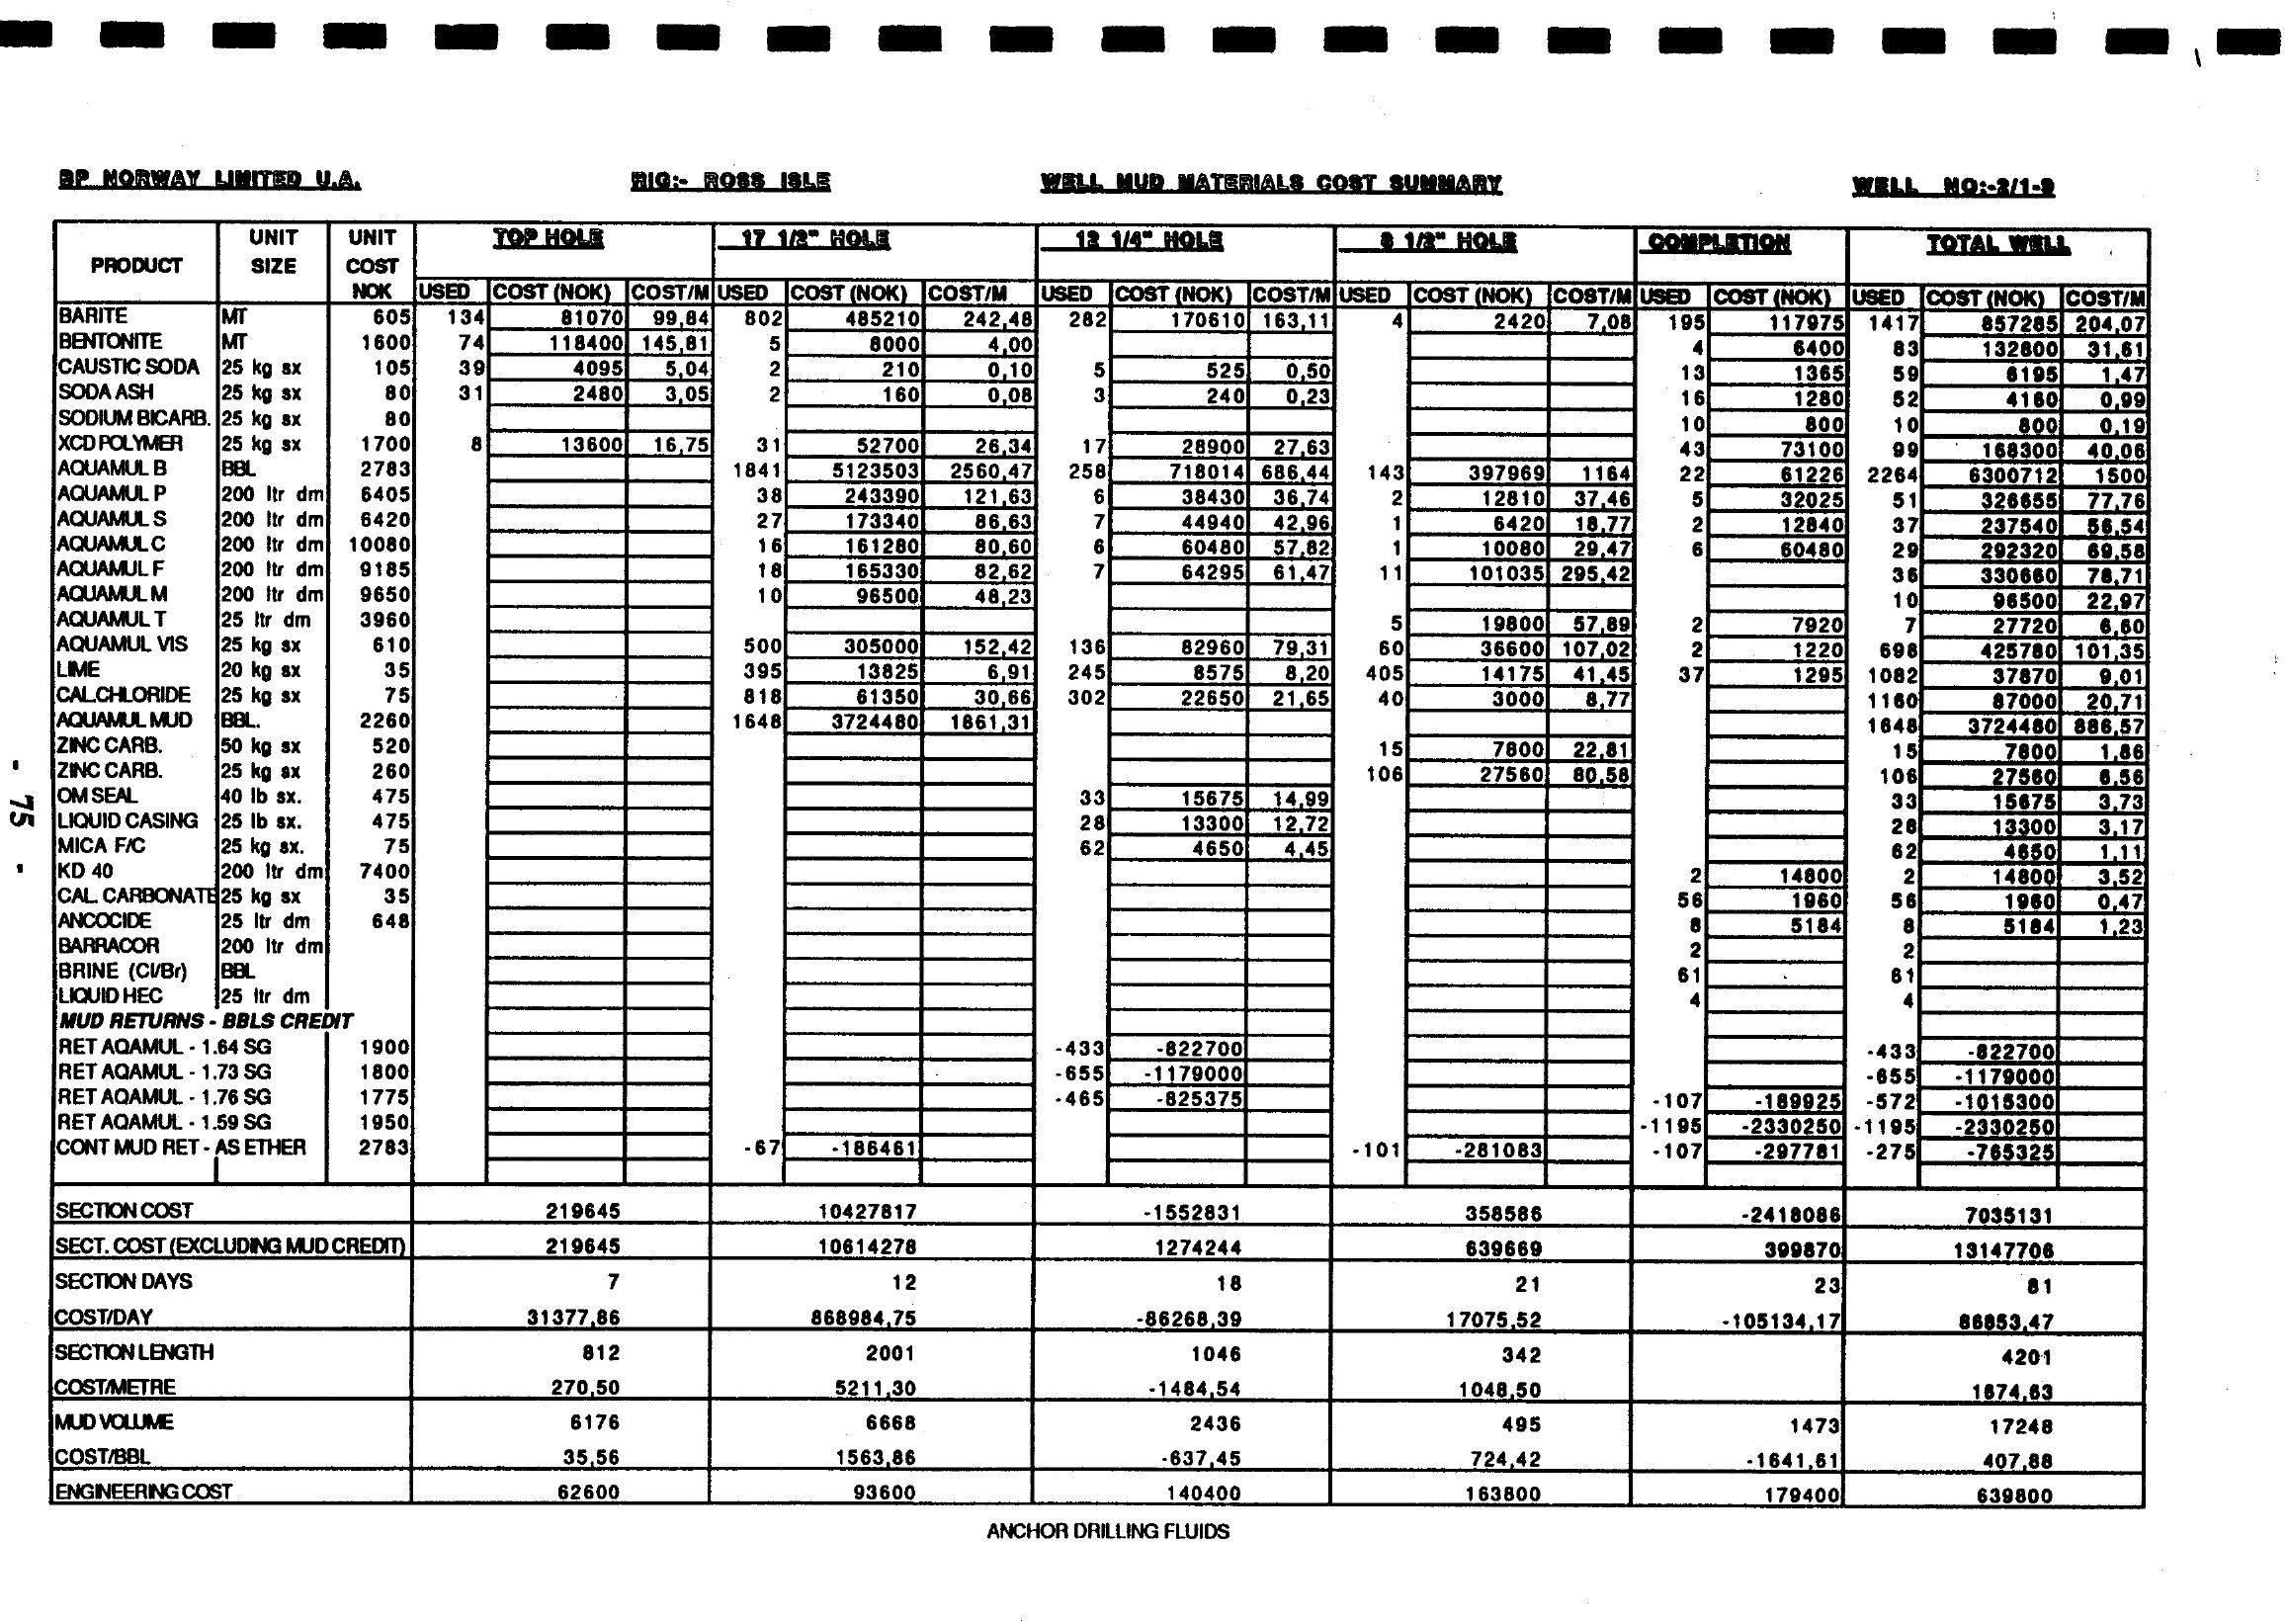table: (40, 153, 2190, 1555)
